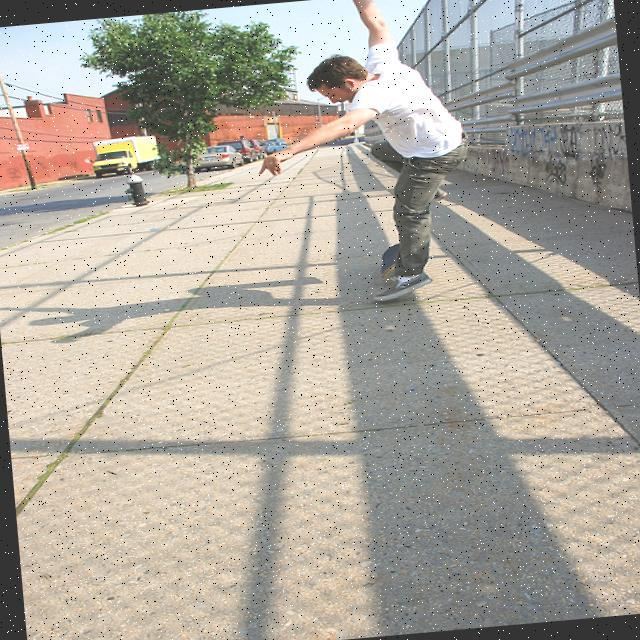fire_hydrant: (124, 170, 150, 207)
